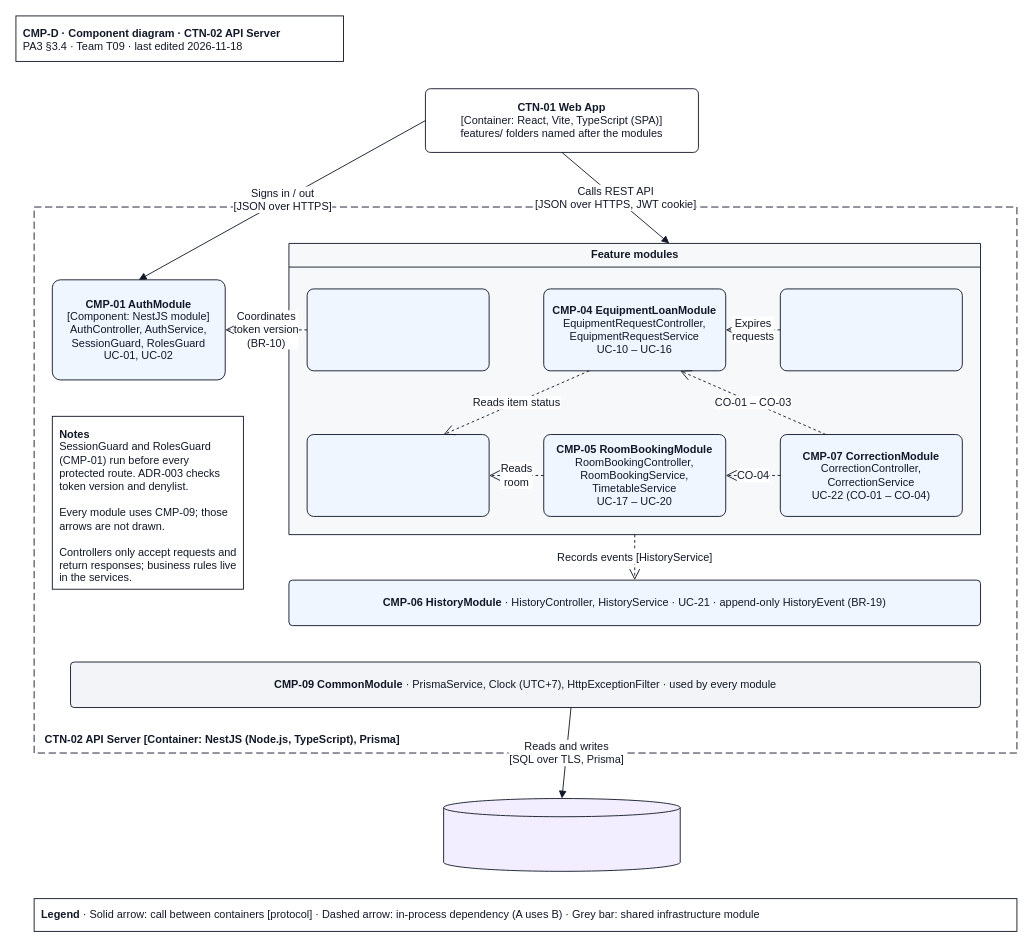
Image size: 1033x947. Some labels were removed from this diagram. Here are the shapes that lost their labels. From the top down, the centre of each, then its label:
At (x=397, y=329): "CMP-02 AccountModule AccountController, AccountService UC-03 – UC-06".
At (x=870, y=329): "CMP-08 SchedulerModule ExpiryJob FR-03-13 (pickup expiry) Schedule pending I-04".
At (x=397, y=475): "CMP-03 CatalogModule ResourceController, ResourceService UC-07 – UC-09".
At (x=561, y=834): "CTN-03 Database [Container: PostgreSQL on Supabase]".
